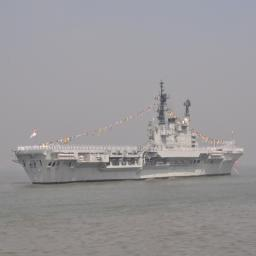Portanaves: (13, 79, 246, 188)
